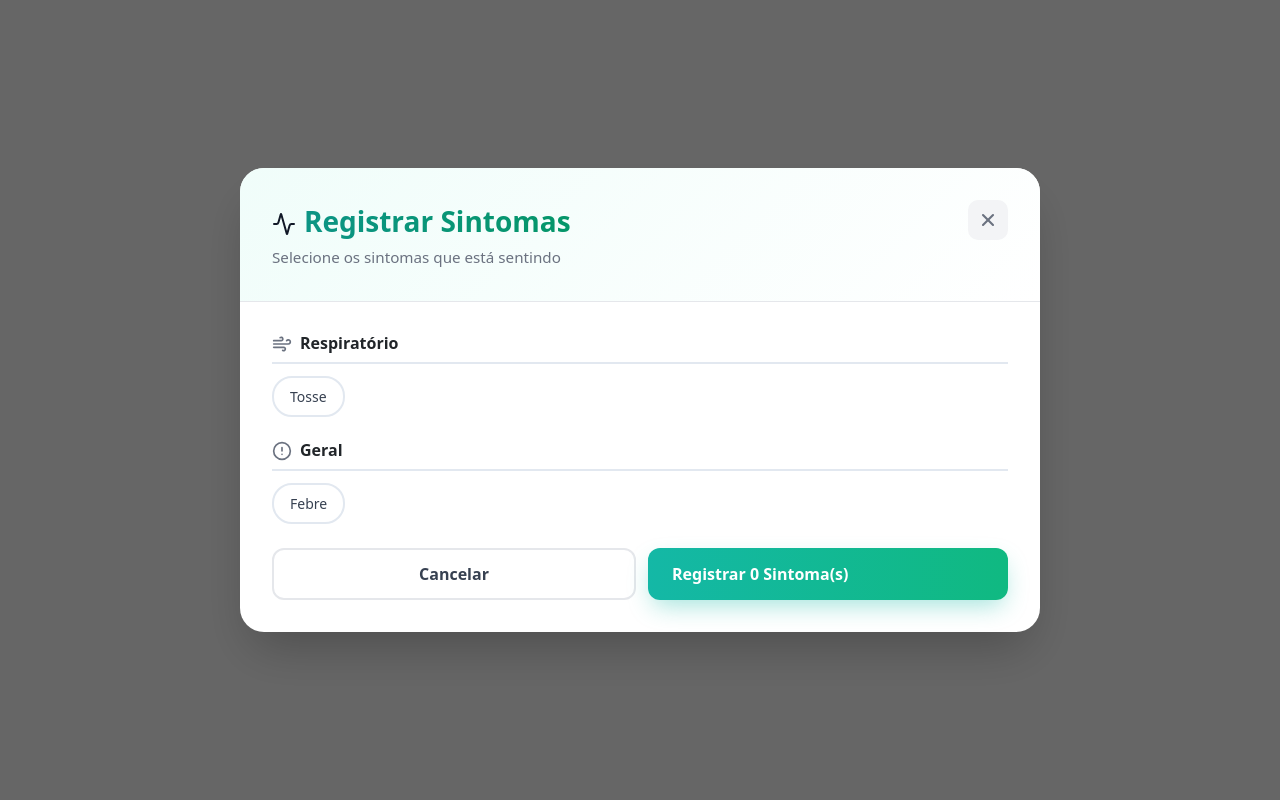
Test case: SymptomsModal › permite selecionar e desmarcar sintomas
This screenshot has width=1280, height=800.
Click the button "Tosse": x=308, y=396 [272,376,345,417]
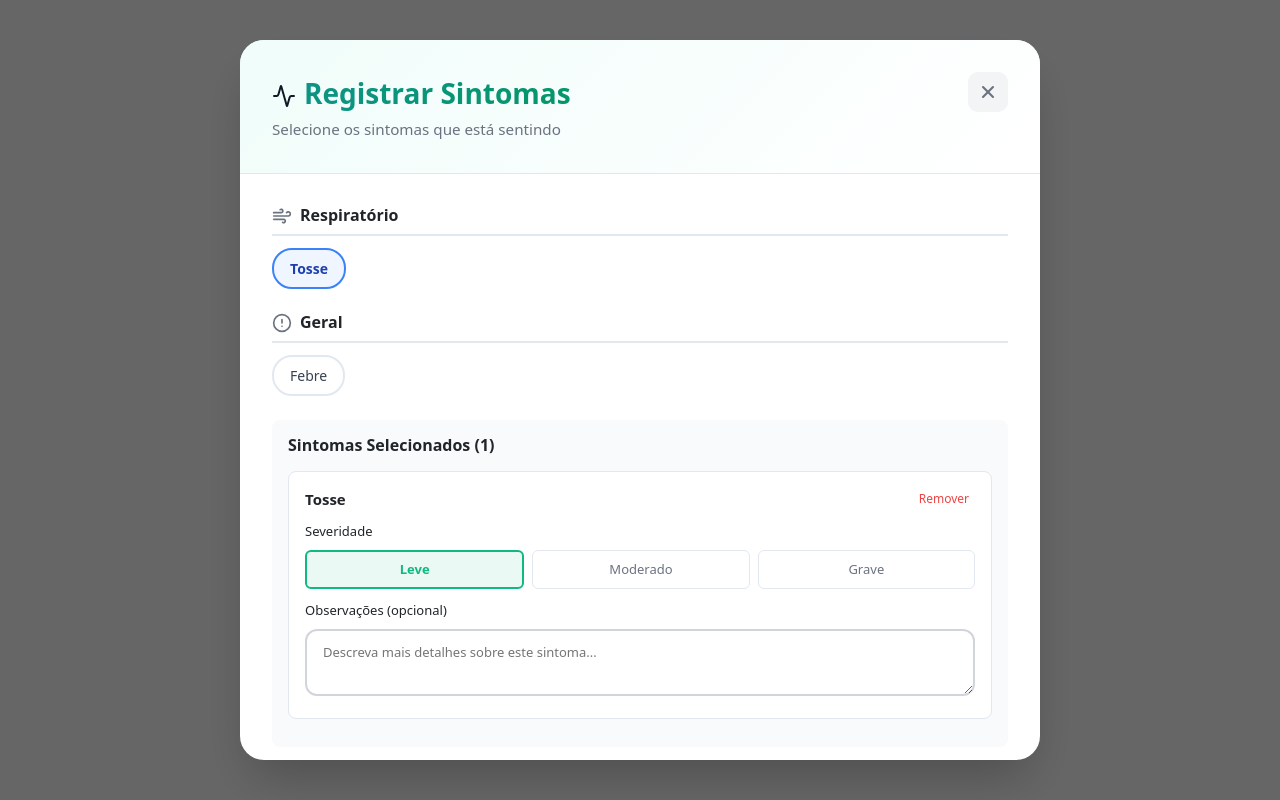
expect the heading "Sintomas Selecionados (1)" is shown: met, box [288,434,494,456]
Click the button "Remover": x=944, y=499 [913,489,975,509]
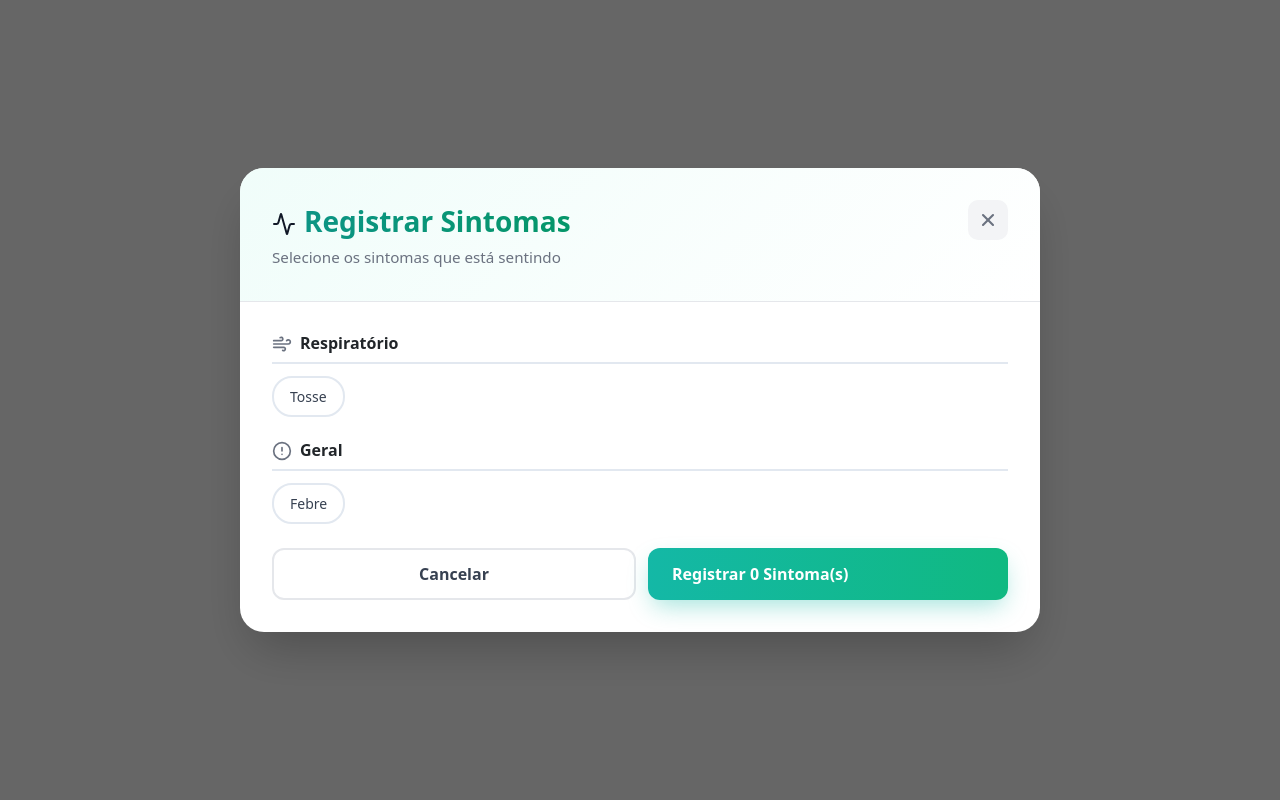
expect the heading "Sintomas Selecionados" is gone: met
